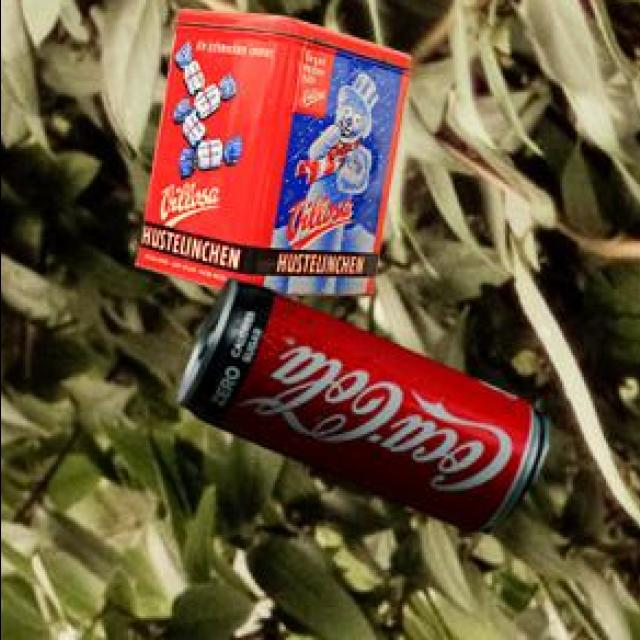logam: (172, 282, 545, 536), (130, 12, 407, 299)
